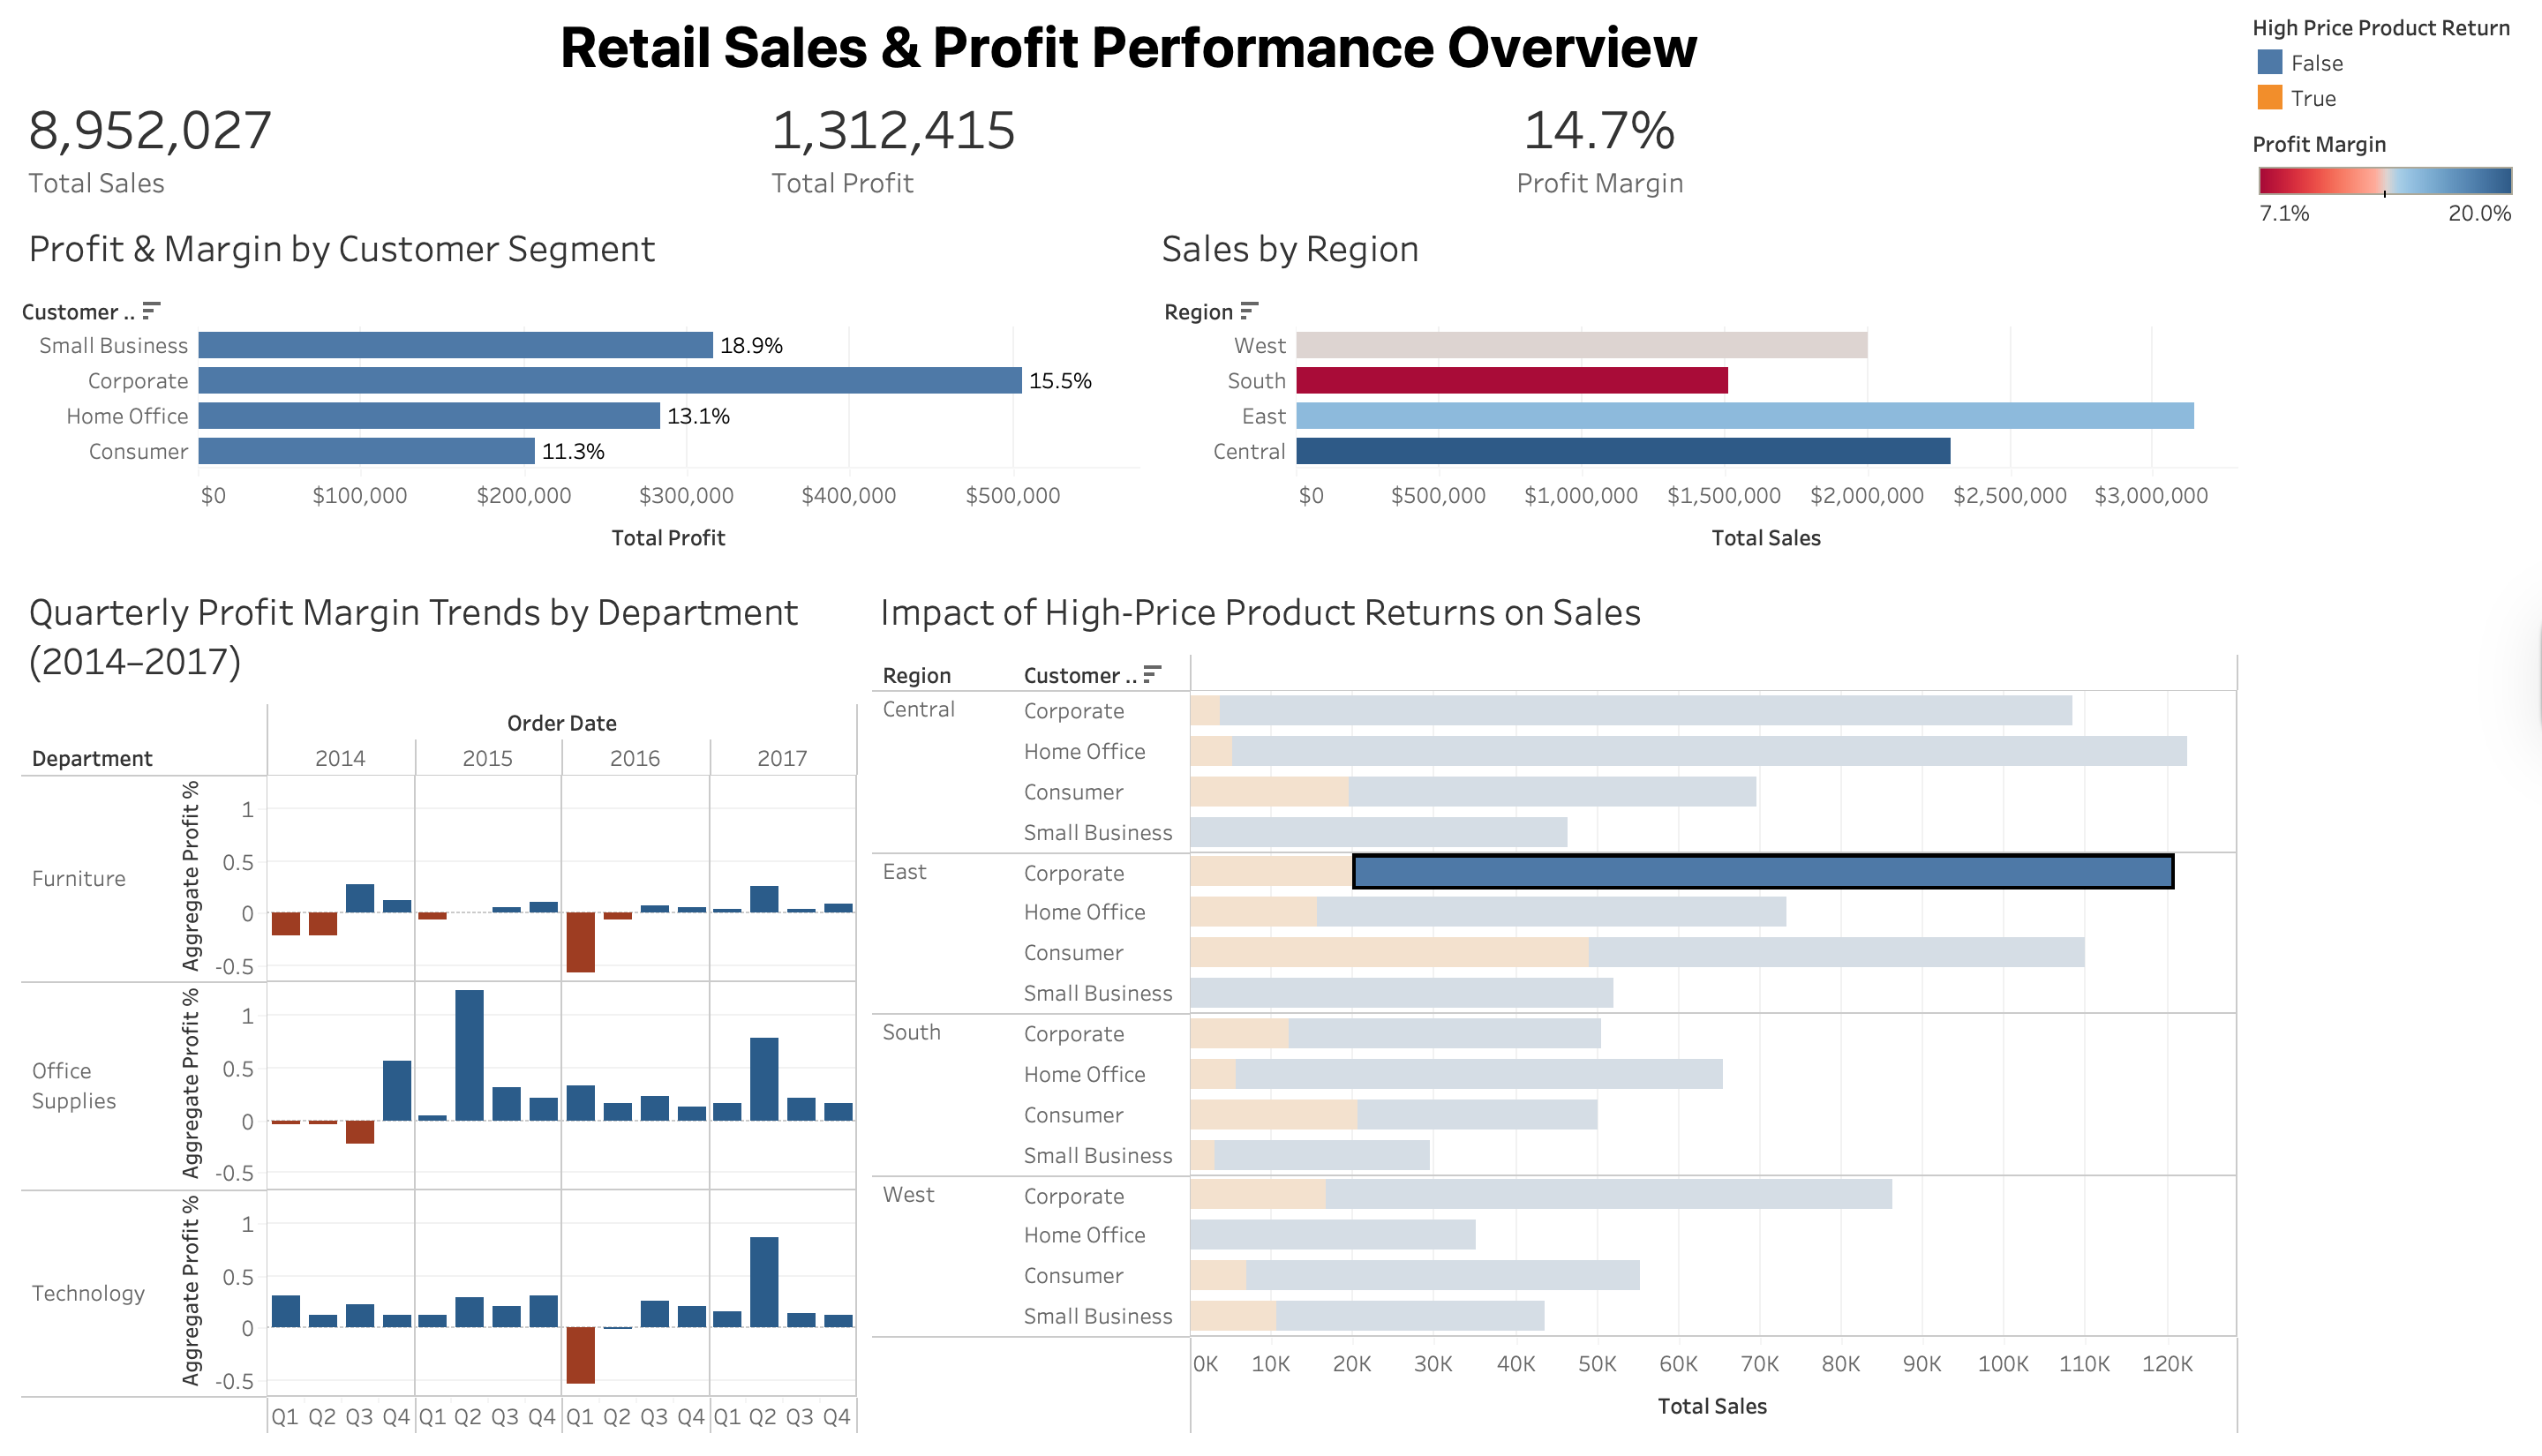

Layout of this report page (visuals, bound fields, positions):
{"tool":"tableau","page":{"name":"Retail Sales & Profit Performance Dashboard","canvas":[1000,1000],"units":"permille","ordinal":0},"visuals":[{"type":"text","box":[6.5,10.4,856.8,59.9]},{"type":"legend","title":"Impact of High-Price Product Returns on Sales","param":"[federated.13binkz0g6wo6l1f7ecy10x8uq22 (copy)].[none:Calculation_14617699523000","box":[863.3,10.4,130.2,85.9]},{"type":"worksheet","title":"KPI Summary - Sales","mark":"Automatic","box":[6.5,70.3,285.6,89.8]},{"type":"worksheet","title":"KPI Summary - Profit","mark":"Automatic","box":[292.1,70.3,285.6,89.8]},{"type":"worksheet","title":"KPI Summary - Margin","mark":"Automatic","box":[577.7,70.3,285.6,89.8]},{"type":"legend","title":"Sales by Region","param":"[federated.13binkz0g6wo6l1f7ecy10x8uq22].[usr:Calculation_3298253451556466688:qk","box":[863.3,96.4,130.2,84.6]},{"type":"worksheet","title":"Profit & Margin by Customer Segment","mark":"Bar","rows":["Customer Segment"],"cols":["Profit"],"box":[6.5,160.2,436.5,268.2]},{"type":"worksheet","title":"Sales by Region","mark":"Bar","rows":["Region"],"cols":["Sales"],"box":[443,160.2,420.3,268.2]},{"type":"worksheet","title":"Quarterly Profit Margin Trends by Department (2014–2017)","mark":"Bar","rows":["Department","Calculation_1461769952264077313"],"cols":["Order Date","Order Date"],"box":[6.5,428.4,392.2,561.2]},{"type":"worksheet","title":"Impact of High-Price Product Returns on Sales","mark":"Automatic","rows":["Region","Customer Segment"],"cols":["Sales"],"box":[398.7,428.4,464.6,561.2]}]}

Visuals, with their boxes on the dashboard's canvas, which has no fixed pixel size, in thousandths of its width and height (x1, y1, x2, y2). These are canvas units, not pixel positions in the 2542x1456 screenshot, which may show the page scaled, cropped or inside an application window:
text: (x1=6, y1=10, x2=863, y2=70)
"Impact of High-Price Product Returns on Sales" legend: (x1=863, y1=10, x2=994, y2=96)
"KPI Summary - Sales" worksheet: (x1=6, y1=70, x2=292, y2=160)
"KPI Summary - Profit" worksheet: (x1=292, y1=70, x2=578, y2=160)
"KPI Summary - Margin" worksheet: (x1=578, y1=70, x2=863, y2=160)
"Sales by Region" legend: (x1=863, y1=96, x2=994, y2=181)
"Profit & Margin by Customer Segment" worksheet (Bar marks): (x1=6, y1=160, x2=443, y2=428)
"Sales by Region" worksheet (Bar marks): (x1=443, y1=160, x2=863, y2=428)
"Quarterly Profit Margin Trends by Department (2014–2017)" worksheet (Bar marks): (x1=6, y1=428, x2=399, y2=990)
"Impact of High-Price Product Returns on Sales" worksheet: (x1=399, y1=428, x2=863, y2=990)
